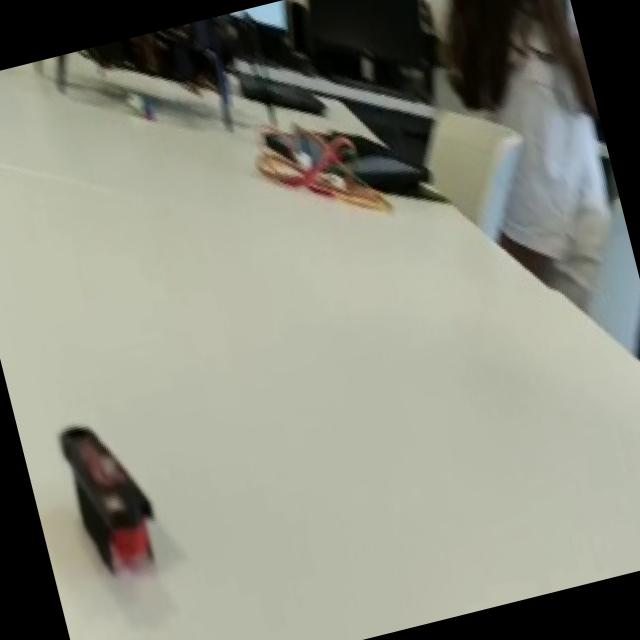2_NanoBug_Negro: (34, 394, 185, 606)
